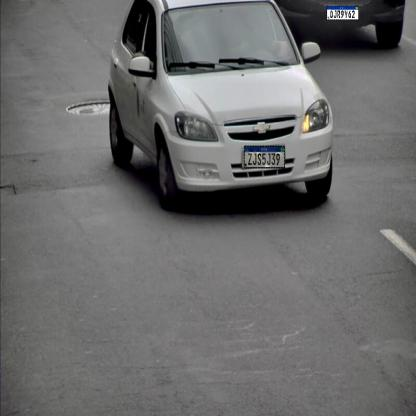PlacaM: (244, 146, 285, 168), (326, 6, 358, 20)
